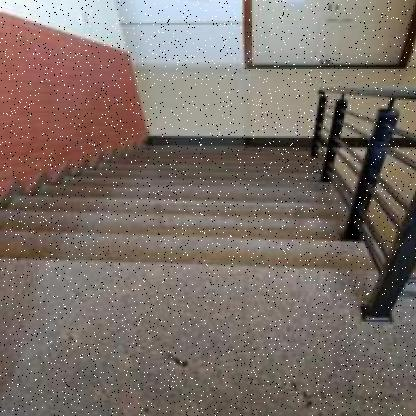stair_down: (28, 171, 310, 306)
